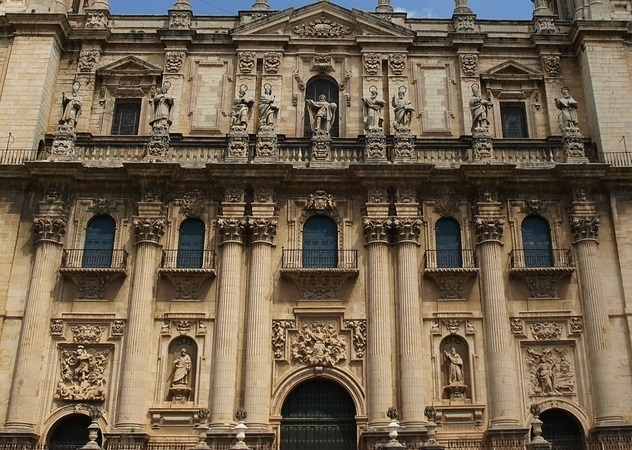arco-medio-punto: (269, 364, 367, 422), (525, 398, 592, 441), (40, 403, 106, 442), (163, 333, 203, 358), (437, 330, 474, 356), (82, 210, 120, 232), (302, 70, 340, 92), (299, 212, 340, 232), (518, 211, 554, 233), (431, 213, 464, 234), (177, 215, 207, 233)
fronton: (478, 56, 547, 85), (95, 53, 165, 80)
fronton-partido: (227, 1, 421, 49)
vano-adintelado: (96, 82, 155, 140), (486, 87, 542, 142)
